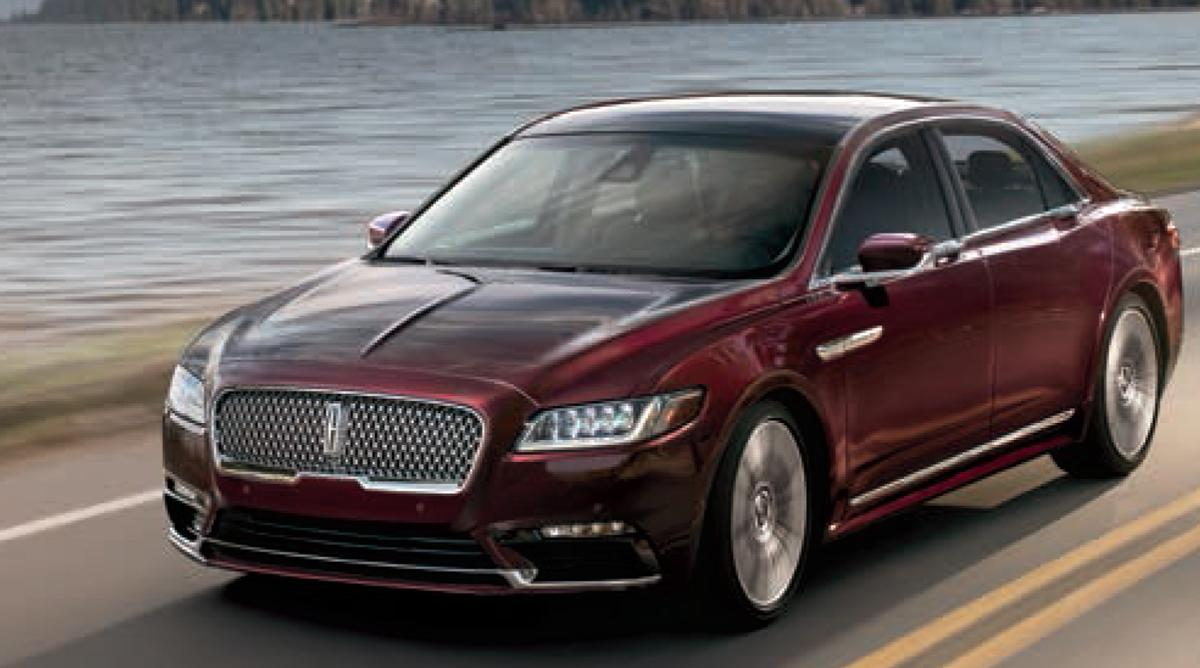lincoln: (312, 390, 353, 464)
